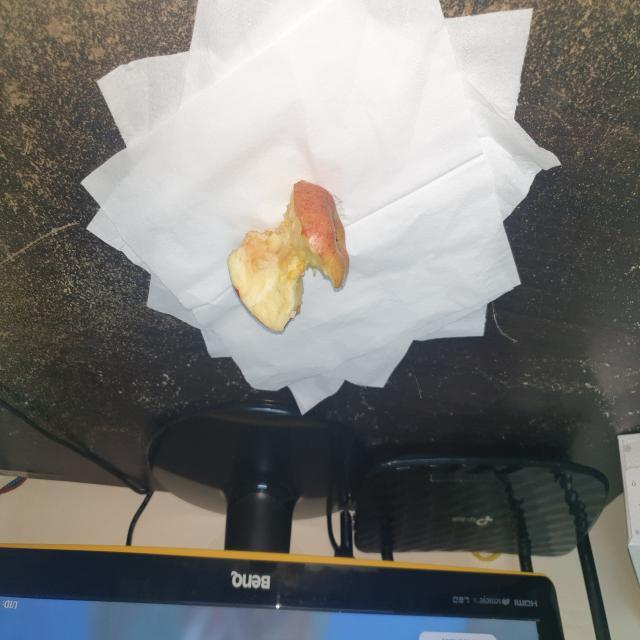apple: (216, 182, 368, 342)
